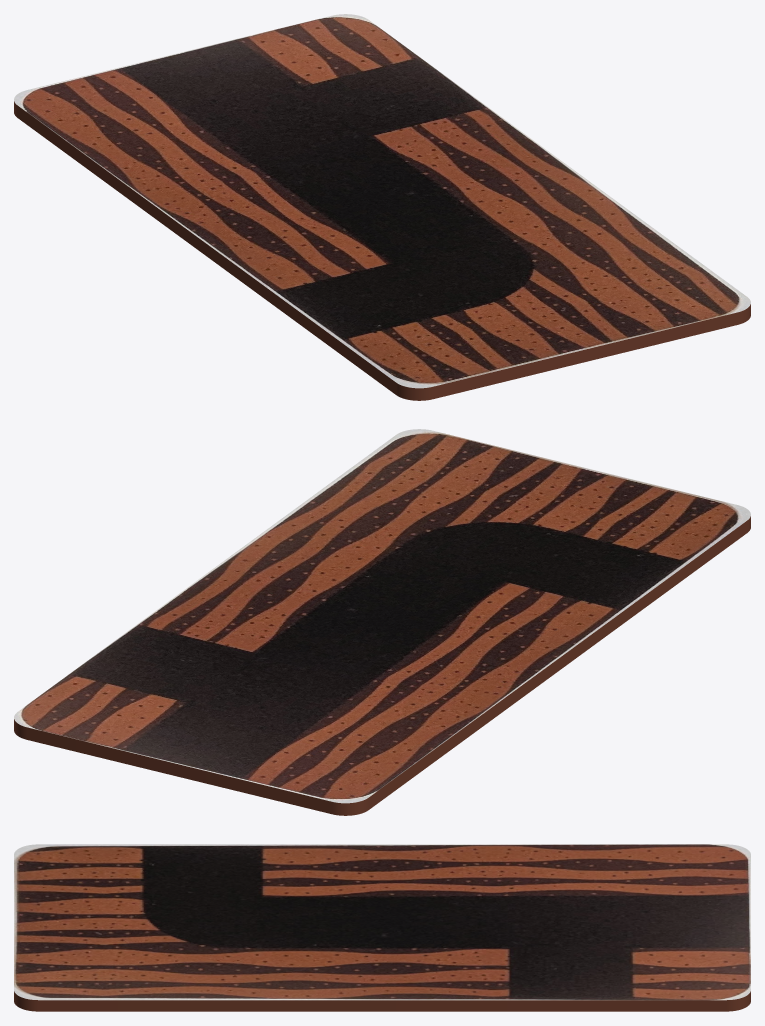
The picture shows the model from 3 angles, top to bottom: view 1: azimuth 30°, elevation 25°; view 2: azimuth 150°, elevation 25°; view 3: azimuth 270°, elevation 25°; orthographic projection. The views are drawn at different scales.
Visible parts, largest first — view 1: g16; view 2: g16; view 3: g16.
Part boxes in pixels (bbox=[...]): g16: bbox=[14, 14, 750, 400]; g16: bbox=[14, 429, 750, 815]; g16: bbox=[14, 844, 750, 1011].
Size of the model in its own units: 0.044 by 0.0015 by 0.088.
3 materials, 2 textured.
